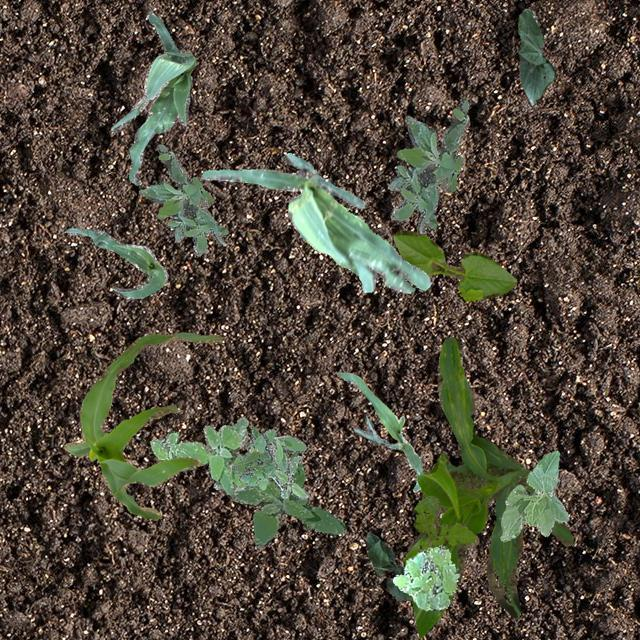crop: (402, 336, 572, 636), (201, 152, 431, 292), (64, 332, 222, 518), (110, 12, 196, 184), (336, 371, 422, 492), (392, 228, 516, 300), (62, 228, 168, 298), (500, 450, 568, 540), (516, 8, 554, 104), (364, 532, 410, 600)
weed: (228, 452, 344, 548), (388, 99, 468, 232), (138, 144, 228, 255), (150, 416, 258, 494), (212, 424, 308, 498), (392, 542, 458, 610), (412, 494, 478, 552), (230, 451, 272, 488)
